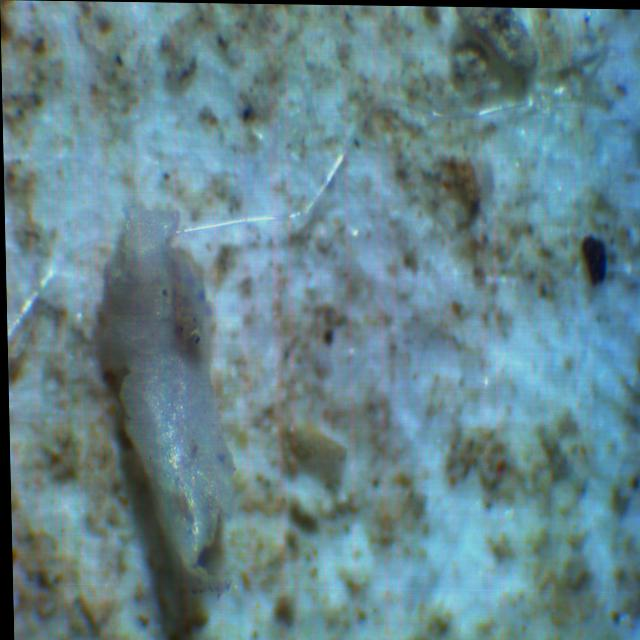microplastic: (102, 202, 234, 580)
